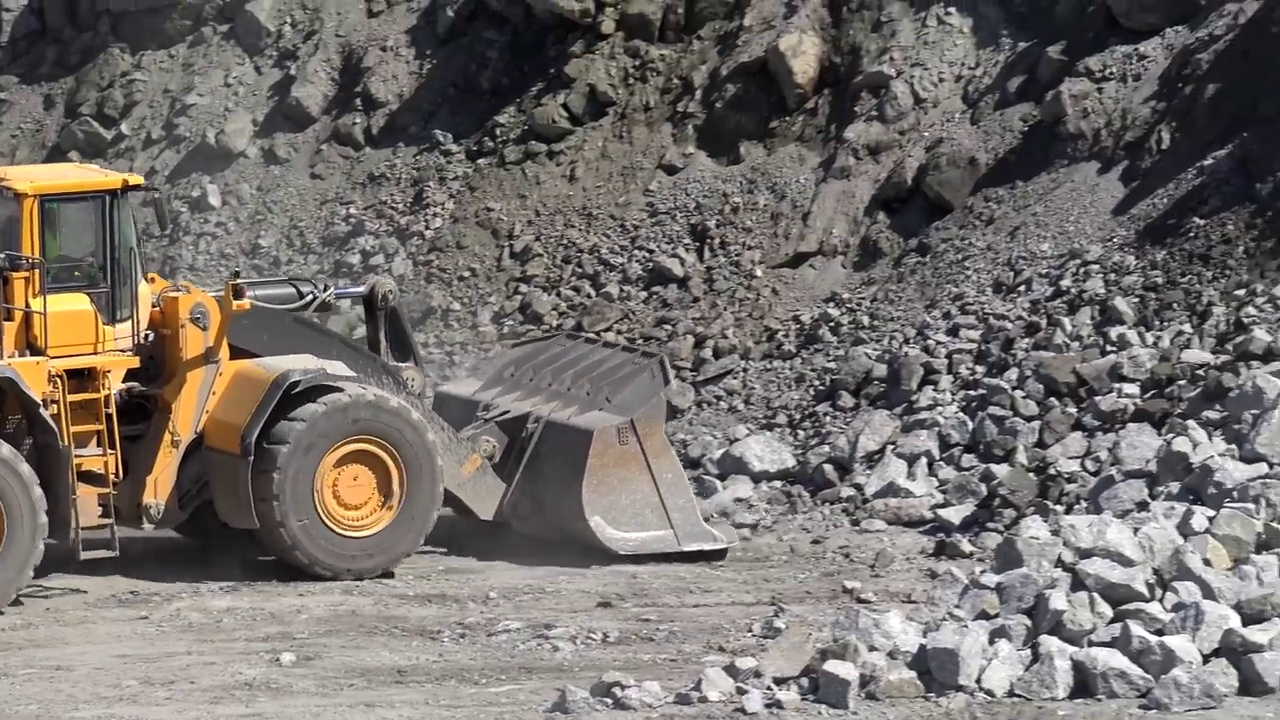wheel loader: (1, 157, 739, 616)
